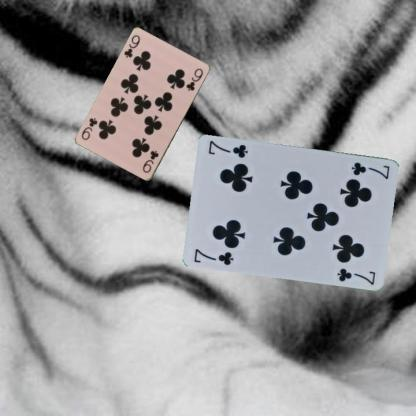7c: (192, 246, 235, 266), (349, 160, 391, 180)
9c: (121, 32, 142, 60), (140, 148, 160, 174)
